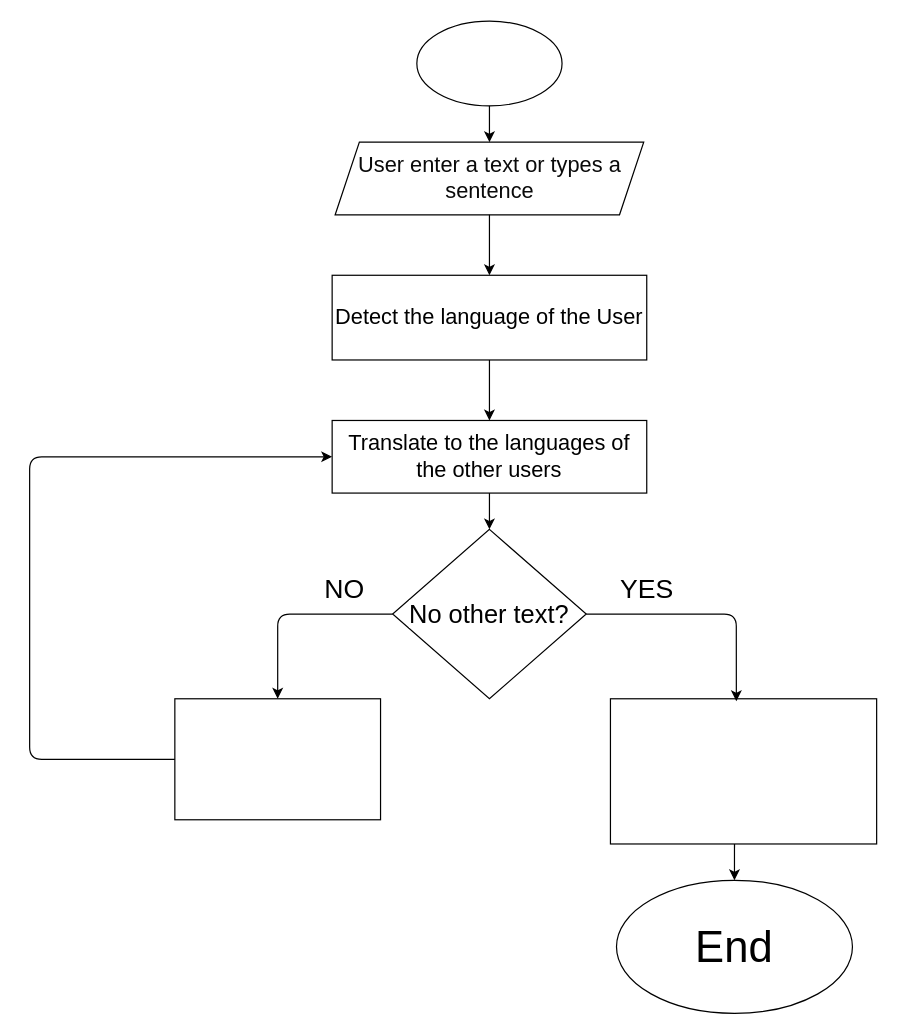
The diagram is 898 pixels wide and 1035 high, and some of its shapes have lost their labels. The centre of each missing label's shape, as x and y in pixels:
"Enter the text" goes at (x=277, y=759).
"Show the output to every user in their own selected languages" goes at (x=743, y=771).
"Start" goes at (x=489, y=63).
